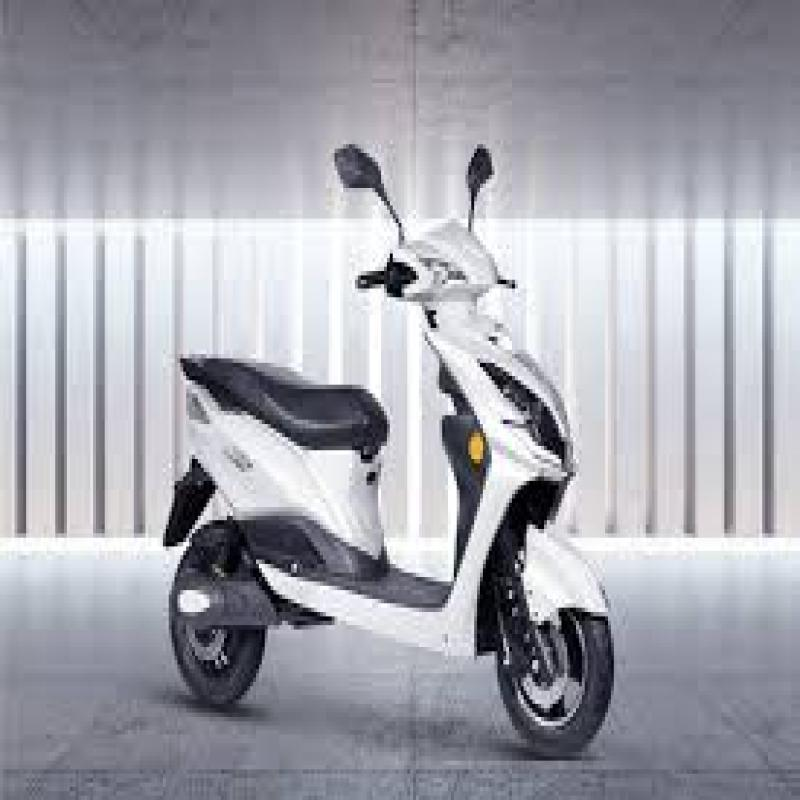bike: (157, 133, 620, 748)
